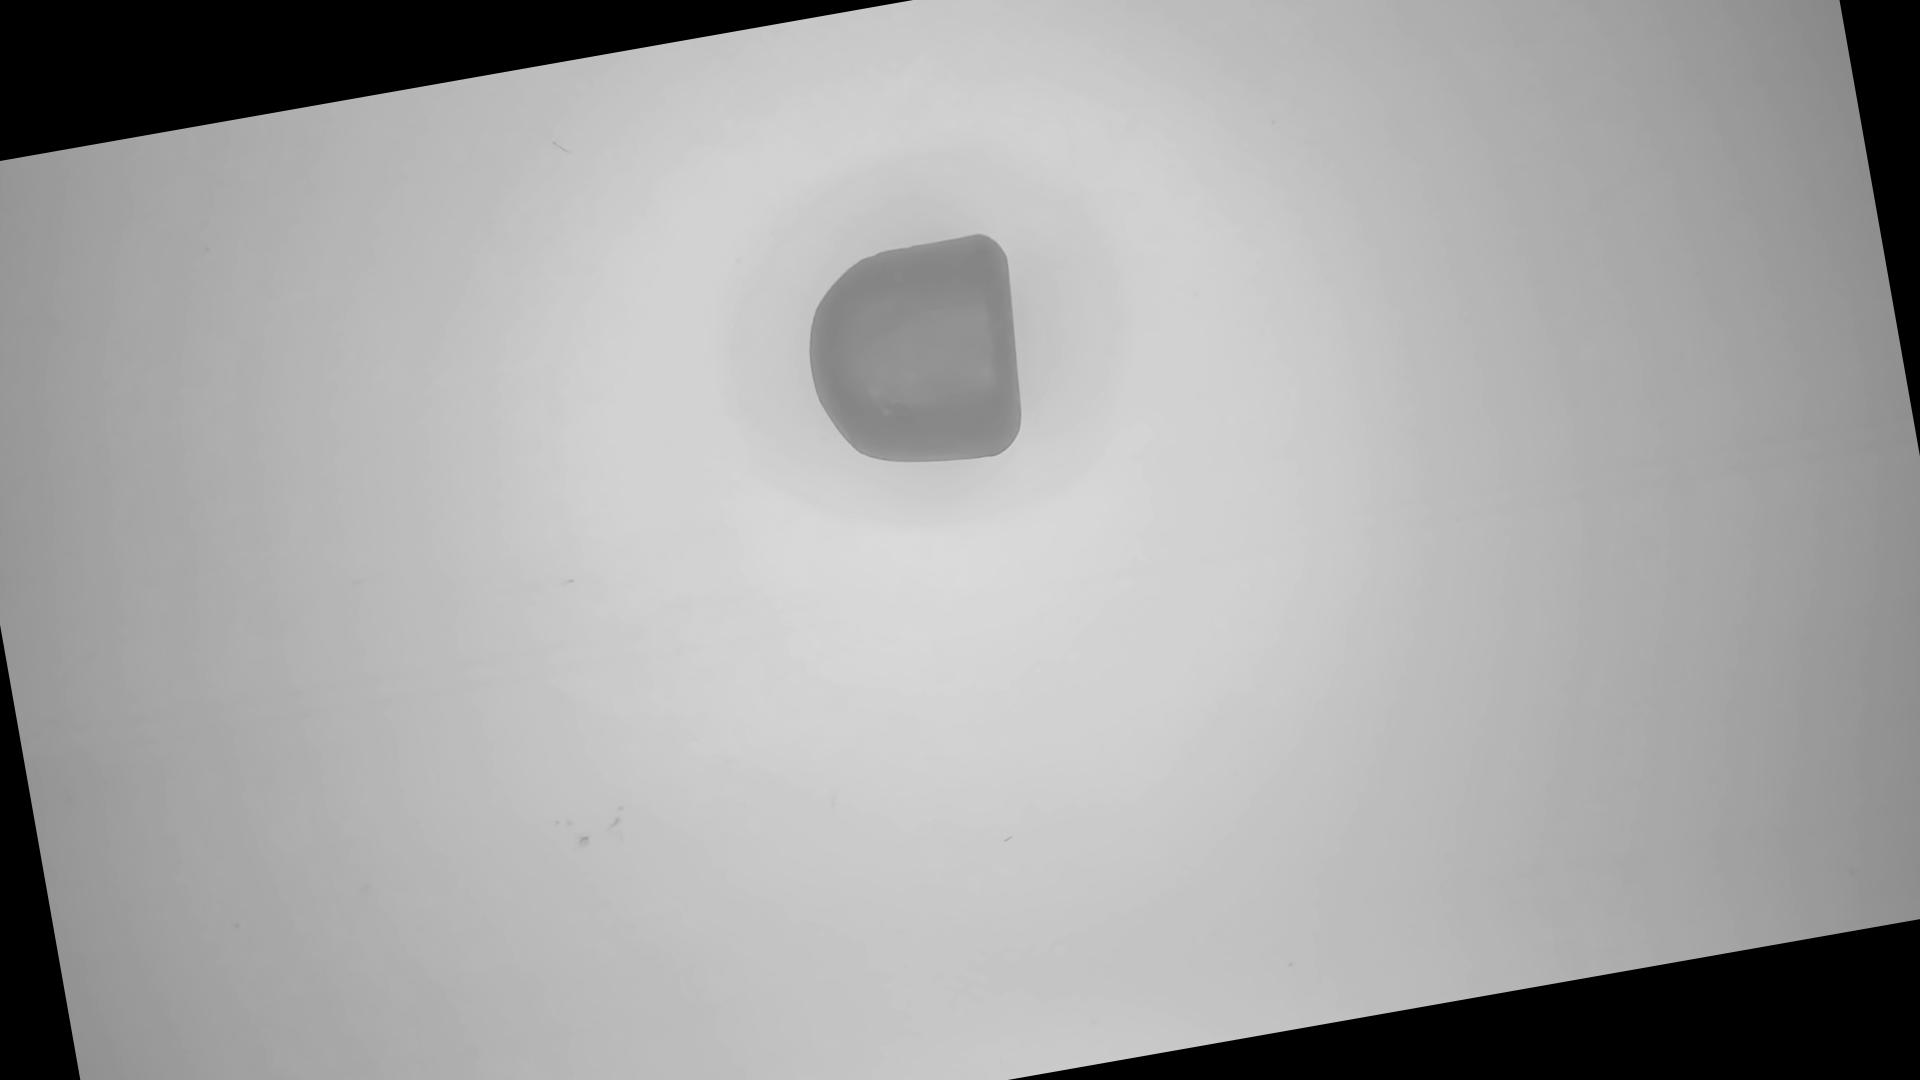normal: (790, 225, 1046, 491)
